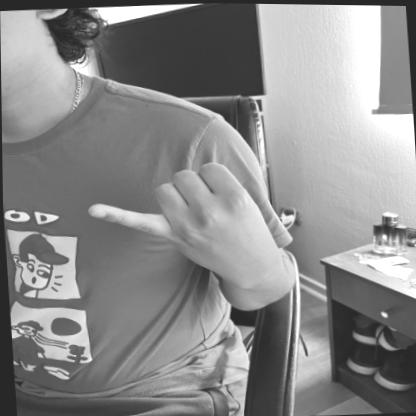J: (84, 150, 284, 292)
